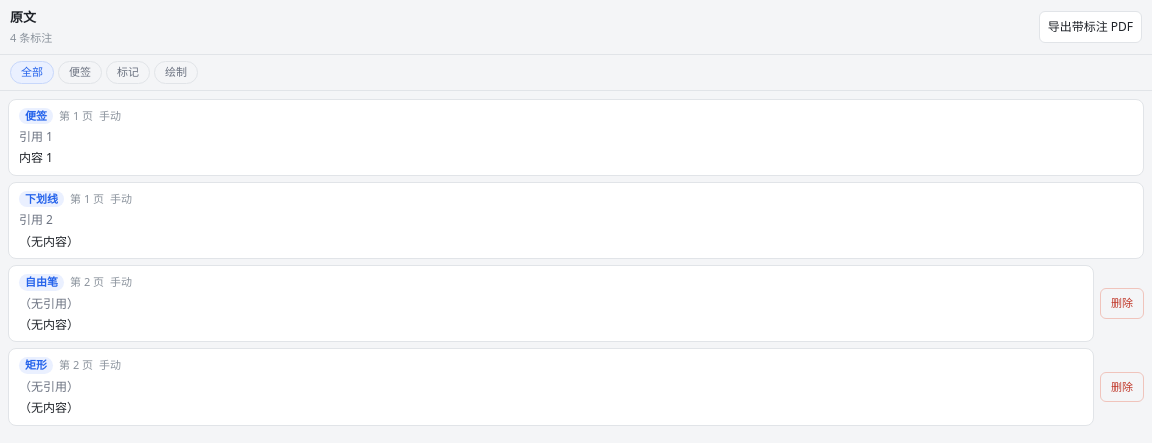
Test: StickyNotesPanel 标注筛选与列表 › 提供四个筛选按钮，选择绘制后按筛选结果计数
Expected: the text "4 条标注" is shown, x1=10 y1=30 x2=52 y2=46
What coordinates should you click on to do the following:
click the button "绘制"
I would click on:
 (176, 72)
Its box is x1=154 y1=61 x2=198 y2=84.
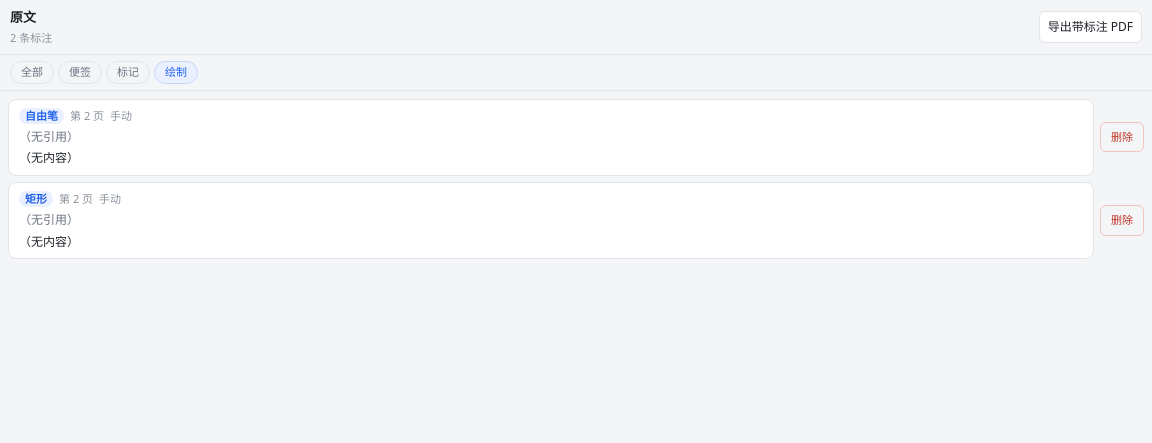
Now the text "2 条标注" is shown, box x1=10 y1=30 x2=52 y2=46
